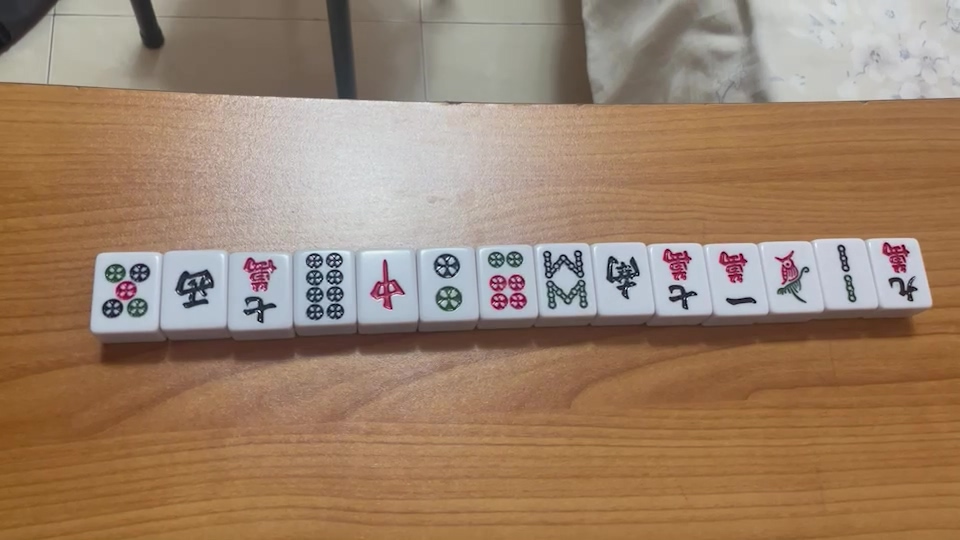b-1: (773, 246, 813, 307)
b-2: (833, 244, 859, 305)
b-8: (539, 245, 590, 313)
c-1: (713, 250, 758, 309)
c-7: (232, 254, 284, 325), (661, 248, 701, 311)
c-9: (877, 238, 925, 304)
d-2: (427, 253, 467, 315)
d-5: (98, 256, 155, 323)
d-6: (486, 246, 530, 313)
d-8: (301, 253, 346, 319)
honors-red: (368, 253, 408, 313)
honors-south: (603, 251, 644, 303)
honors-west: (171, 263, 217, 313)
